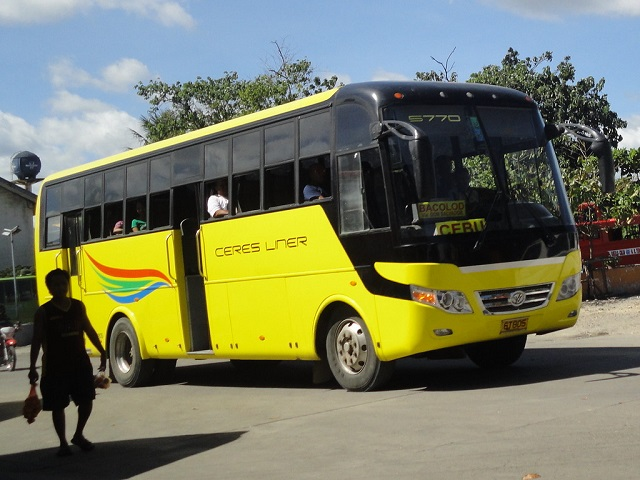bike: (2, 324, 20, 368)
bus: (34, 80, 582, 385)
person: (28, 270, 107, 450)
